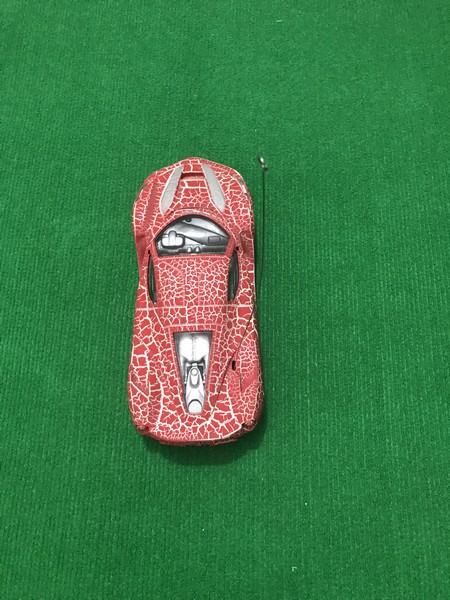RC: (126, 154, 268, 447)
